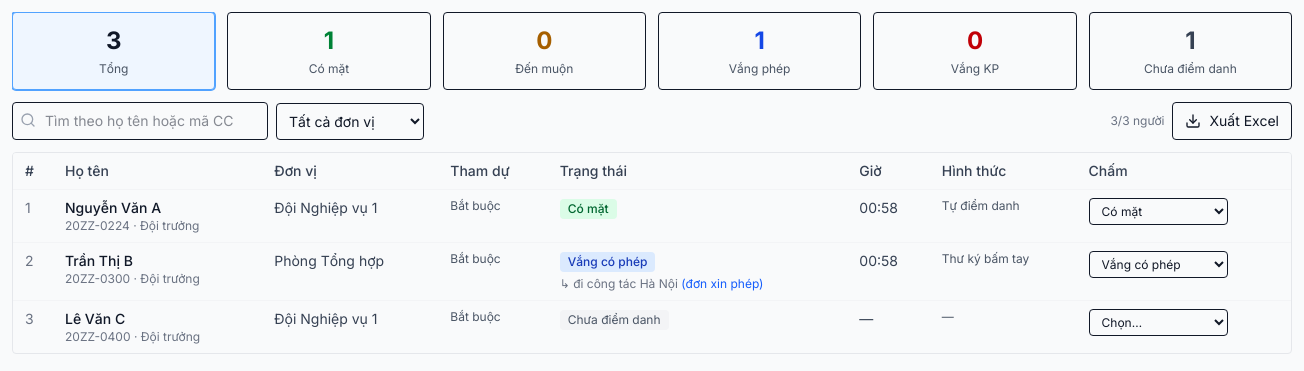
BangDiemDanhChiTiet › ô "Chưa điểm danh" lọc đúng người không có bản ghi
This screenshot has width=1304, height=371.
Expected: the text "Nguyễn Văn A" is shown, [65,199,161,216]
Click the button "1 Chưa điểm danh" at (1190, 51), box [1089,12,1292,90]
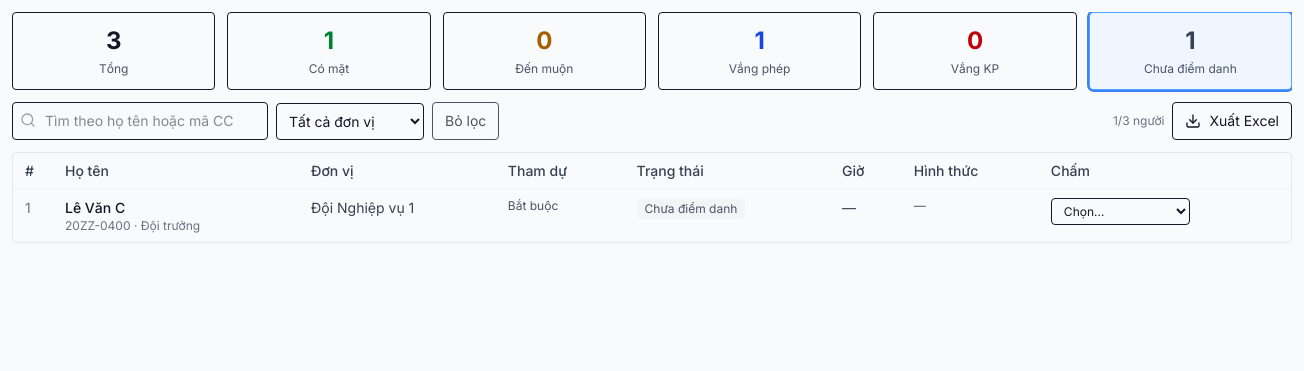
Expected: the text "Lê Văn C" is shown, [65,199,125,216]
Expected: the text "Nguyễn Văn A" is gone
